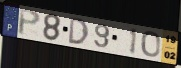1: (128, 28, 138, 55)
8: (43, 13, 62, 42)
9: (93, 24, 111, 49)
D: (68, 16, 90, 46)
O: (140, 31, 161, 58)
P: (17, 8, 42, 38)
